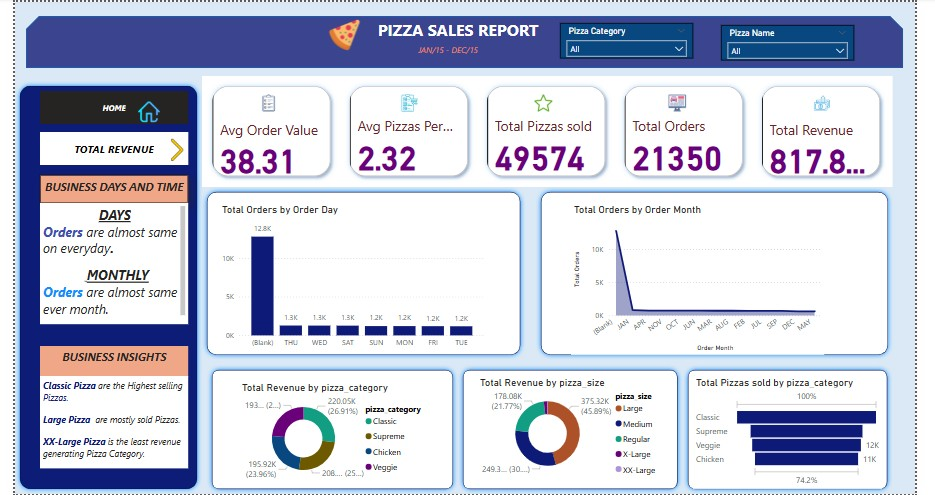

Layout of this report page (visuals, bound fields, positions):
{"tool":"powerbi","page":{"name":"HOME","canvas":[1500,820],"ordinal":0},"visuals":[{"type":"cardVisual","fields":{"Data":["pizza_sales.Avg order value","pizza_sales.avg pizzas per order","pizza_sales.Total Pizzas sold","pizza_sales.Total Orders","pizza_sales.Total Revenue"]},"box":[311.9,123.7,1150.8,184.7],"z":0},{"type":"shape","box":[18.3,23.3,1461.7,86.7],"z":1000},{"type":"textbox","box":[591.7,23.3,293.3,53.3],"z":2000},{"type":"textbox","box":[655,66.7,133.3,31.7],"z":3000},{"type":"image","box":[506.7,23.3,85,63.3],"z":4000},{"type":"shape","box":[311.9,308.5,539,288.1],"z":5000},{"type":"columnChart","fields":{"Category":["pizza_sales.Order Day"],"Y":["pizza_sales.Total Orders"]},"box":[340.7,335.6,447.5,250.8],"z":6000},{"type":"shape","box":[0,132.2,311.9,688.1],"z":6500},{"type":"shape","box":[867.8,308.5,594.9,288.1],"z":7000},{"type":"areaChart","fields":{"Category":["pizza_sales.Order Month"],"Y":["pizza_sales.Total Orders"]},"box":[927.1,335.6,422,252.5],"z":8000},{"type":"shape","box":[320.3,605.1,418.6,215.3],"z":9000},{"type":"shape","box":[739,605.1,374.6,215.3],"z":10000},{"type":"shape","box":[1113.6,605.1,349.2,215.3],"z":11000},{"type":"slicer","fields":{"Values":["pizza_sales.pizza_category"]},"box":[908.5,35.6,222,59.3],"z":12000},{"type":"donutChart","fields":{"Category":["pizza_sales.pizza_size"],"Y":["pizza_sales.Total Revenue"]},"box":[769.5,623.7,315.3,172.9],"z":13000},{"type":"funnel","fields":{"Category":["pizza_sales.pizza_category"],"Y":["pizza_sales.Total Pizzas sold"]},"box":[1130.5,623.7,315.3,188.1],"z":15000},{"type":"textbox","box":[42.4,288.1,247.5,47.5],"z":16000},{"type":"textbox","box":[42.4,335.6,247.5,201.7],"z":17000},{"type":"textbox","box":[42.4,572.9,247.5,50.8],"z":17001},{"type":"textbox","box":[42.4,623.7,247.5,154.2],"z":17003},{"type":"donutChart","fields":{"Category":["pizza_sales.pizza_category"],"Y":["pizza_sales.Total Revenue"]},"box":[372.9,632.2,315.3,172.9],"z":17005},{"type":"slicer","fields":{"Values":["pizza_sales.pizza_name"]},"box":[1176.3,39,222,59.3],"z":17006},{"type":"pageNavigator","box":[42.4,149.2,247.5,55.9],"z":17007},{"type":"pageNavigator","box":[42.4,216.9,247.5,55.9],"z":17008},{"type":"image","box":[198.3,159.3,49.2,45.8],"z":17009},{"type":"image","box":[247.5,220.3,47.5,52.5],"z":17010}]}

Visuals, with their boxes on the page's 1500x820 design canvas (x1, y1, x2, y2). These are canvas units, not pixel positions in the 935x495 screenshot, which may show the page scaled, cropped or inside an application window:
cardVisual - pizza_sales.Avg order value x pizza_sales.avg pizzas per order: 312/124/1463/308
shape: 18/23/1480/110
textbox: 592/23/885/77
textbox: 655/67/788/98
image: 507/23/592/87
shape: 312/308/851/597
columnChart - pizza_sales.Order Day x pizza_sales.Total Orders: 341/336/788/586
shape: 0/132/312/820
shape: 868/308/1463/597
areaChart - pizza_sales.Order Month x pizza_sales.Total Orders: 927/336/1349/588
shape: 320/605/739/820
shape: 739/605/1114/820
shape: 1114/605/1463/820
slicer - pizza_sales.pizza_category: 908/36/1130/95
donutChart - pizza_sales.pizza_size x pizza_sales.Total Revenue: 770/624/1085/797
funnel - pizza_sales.pizza_category x pizza_sales.Total Pizzas sold: 1130/624/1446/812
textbox: 42/288/290/336
textbox: 42/336/290/537
textbox: 42/573/290/624
textbox: 42/624/290/778
donutChart - pizza_sales.pizza_category x pizza_sales.Total Revenue: 373/632/688/805
slicer - pizza_sales.pizza_name: 1176/39/1398/98
pageNavigator: 42/149/290/205
pageNavigator: 42/217/290/273
image: 198/159/248/205
image: 248/220/295/273
